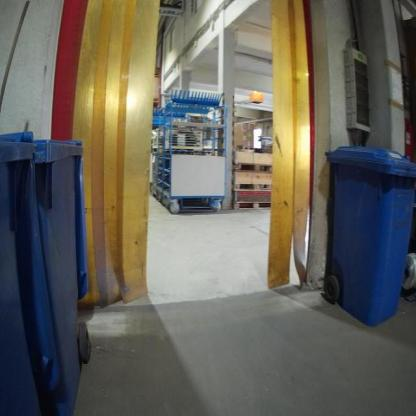pallet: (234, 160, 274, 173), (233, 181, 274, 191), (233, 201, 271, 209)
stillage: (165, 123, 211, 152), (149, 154, 160, 203), (149, 126, 161, 152)
